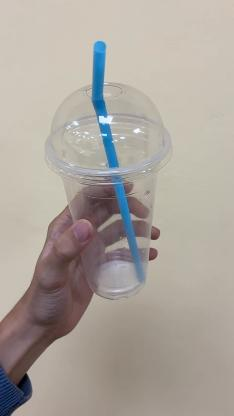Plastic Cup: (43, 81, 176, 299)
